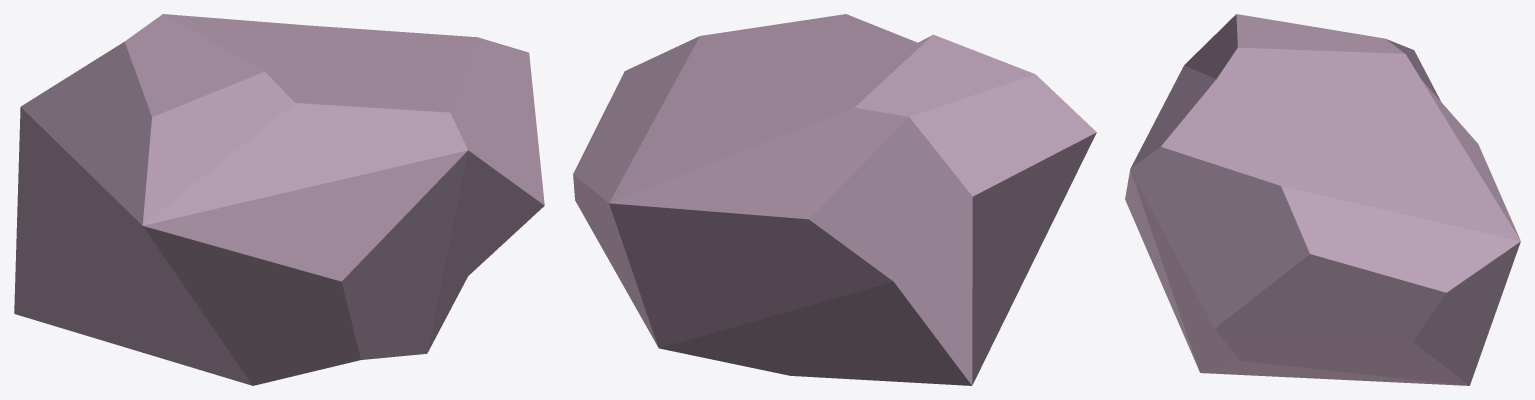
Rendered from Stone_2.fbx.
3 renders of one model, left to right at view 1: azimuth 30°, elevation 25°; view 2: azimuth 150°, elevation 25°; view 3: azimuth 270°, elevation 25°, orthographic. The views are drawn at different scales.
Visible parts, largest first — view 1: Cube; view 2: Cube; view 3: Cube.
Boxes of the visible parts, box(x1,y1,x2,y2) form: Cube: box(14, 14, 544, 385); Cube: box(573, 14, 1096, 385); Cube: box(1125, 14, 1520, 385).
Size of the model in its own units: 235 by 149 by 200.
